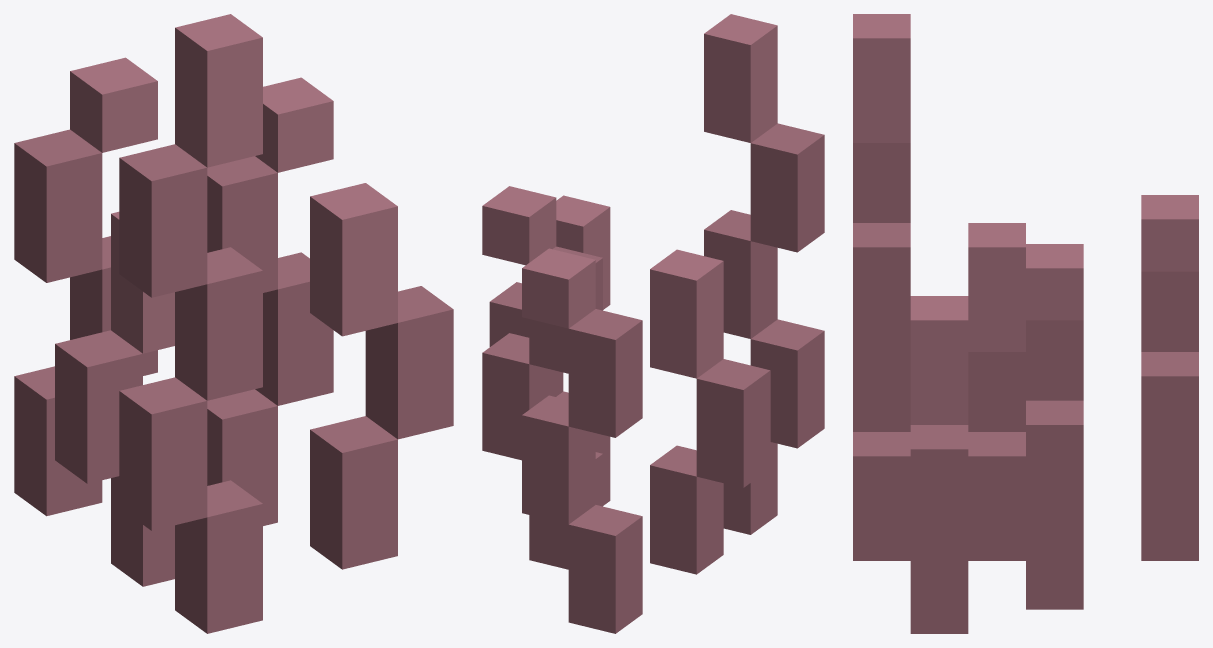
File: alga_roja_03.glb
3 views of the same model, side by side, from view 1: azimuth 30°, elevation 25°; view 2: azimuth 150°, elevation 25°; view 3: azimuth 270°, elevation 25° (orthographic). The views are drawn at different scales.
Parts seen in each view (by area): view 1: alga_roja_03; view 2: alga_roja_03; view 3: alga_roja_03.
Boxes of the visible parts, bbox=[...] form: alga_roja_03: bbox=[14, 14, 453, 633]; alga_roja_03: bbox=[482, 14, 824, 633]; alga_roja_03: bbox=[853, 14, 1198, 633].
Bounding box in the file's own units: 0.6 × 1 × 0.6.
